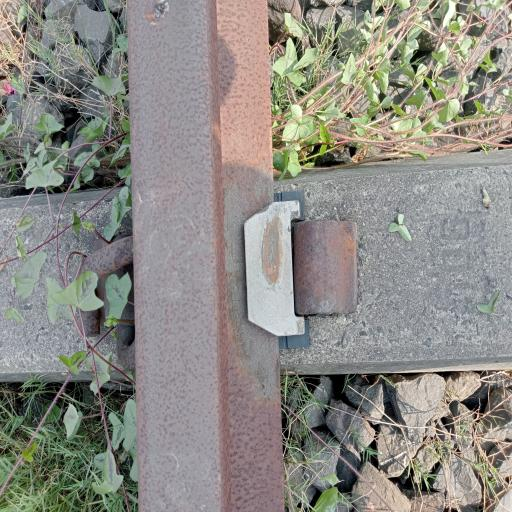mf: (227, 128, 414, 422)
